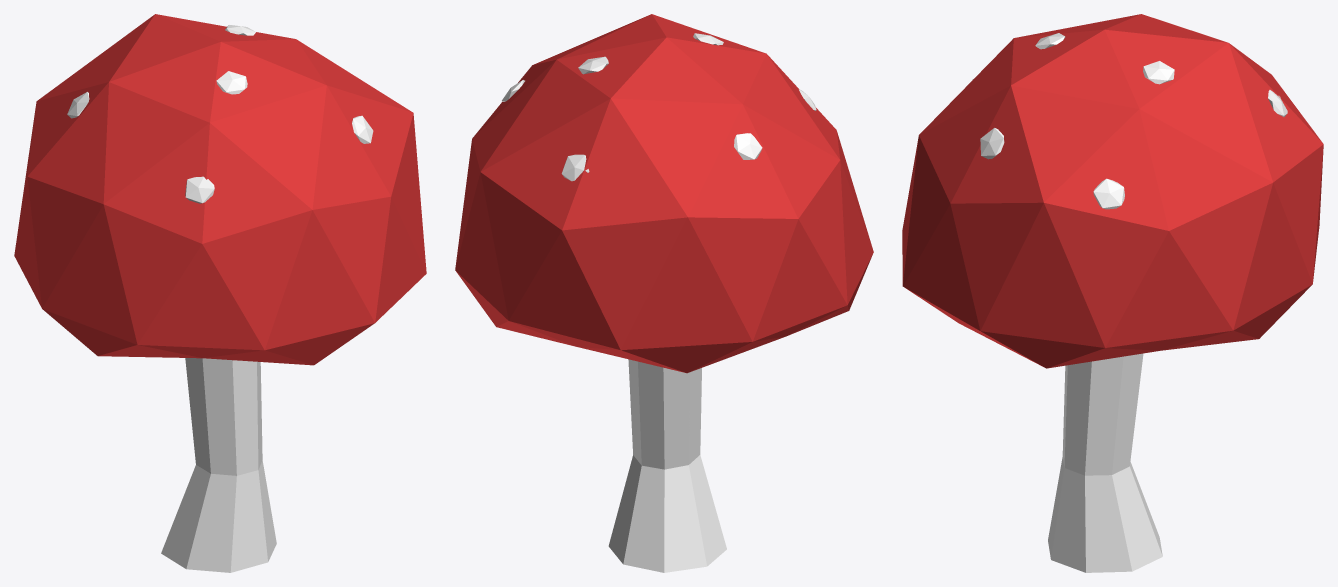
The model's file is Mushroom_01.fbx.
3 views of the same model, side by side, from view 1: azimuth 30°, elevation 25°; view 2: azimuth 150°, elevation 25°; view 3: azimuth 270°, elevation 25° (orthographic). The views are drawn at different scales.
Visible parts, largest first — view 1: Mushroom_01; view 2: Mushroom_01; view 3: Mushroom_01.
Boxes of the visible parts, x1,y1,x2,y2 form: Mushroom_01: (14,14,426,572); Mushroom_01: (455,14,873,572); Mushroom_01: (902,14,1323,572).
Size of the model in its own units: 0.2607 by 0.3522 by 0.2588.
